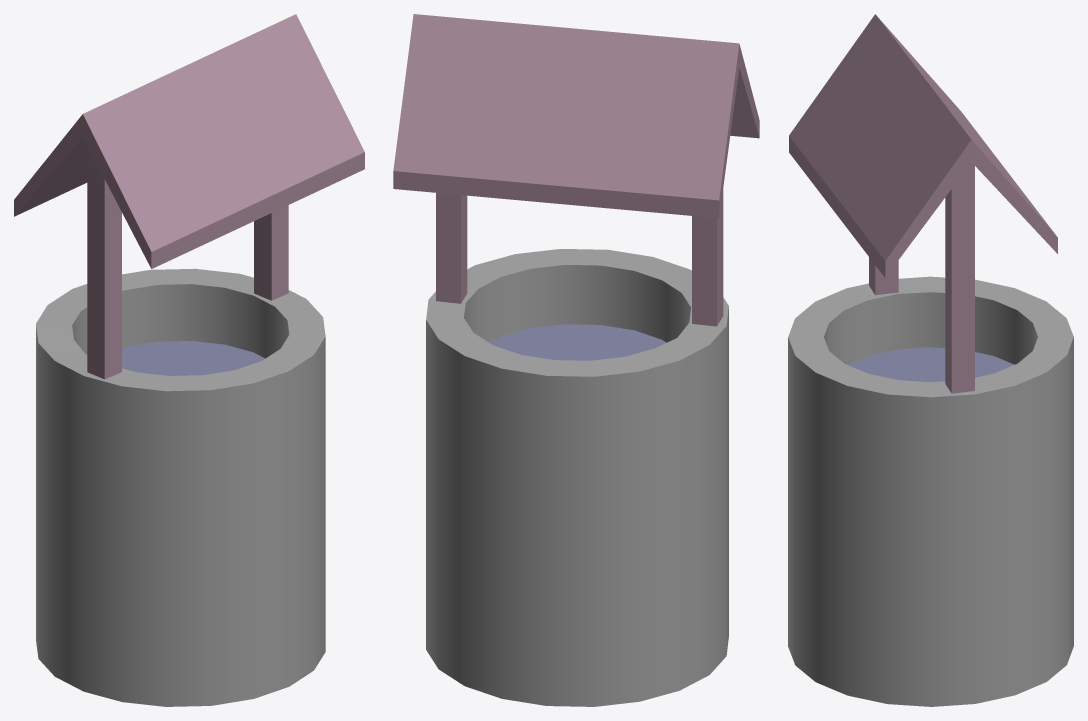
The model's file is SM_Spring.fbx.
The picture shows the model from 3 angles, left to right: view 1: azimuth 30°, elevation 25°; view 2: azimuth 150°, elevation 25°; view 3: azimuth 270°, elevation 25°; orthographic projection. The views are drawn at different scales.
Parts seen in each view (by area): view 1: SM_Spring; view 2: SM_Spring; view 3: SM_Spring.
Part boxes in pixels (bbox=[...]): SM_Spring: bbox=[14, 14, 364, 706]; SM_Spring: bbox=[393, 14, 759, 706]; SM_Spring: bbox=[788, 14, 1073, 706].
Size of the model in its own units: 214 by 382 by 173.
